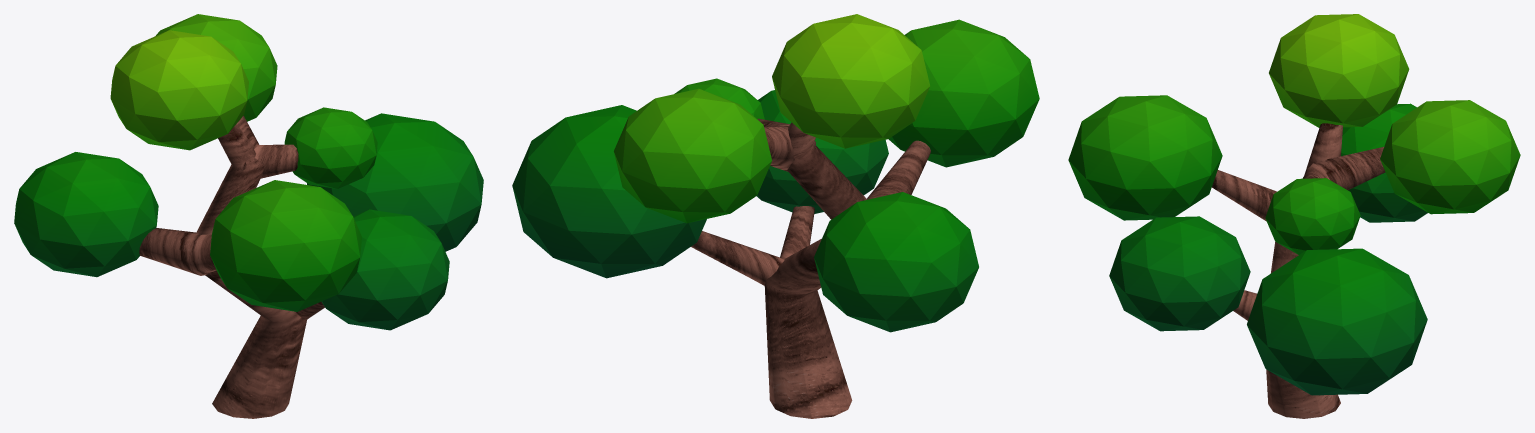
File: tree.glb
The picture shows the model from 3 angles, left to right: view 1: azimuth 30°, elevation 25°; view 2: azimuth 150°, elevation 25°; view 3: azimuth 270°, elevation 25°; orthographic projection. The views are drawn at different scales.
Parts seen in each view (by area): view 1: Leaves, Trunk; view 2: Leaves, Trunk; view 3: Leaves, Trunk.
Part boxes in pixels (bbox=[...]): Leaves: bbox=[14, 14, 483, 330]; Trunk: bbox=[139, 115, 324, 418]; Leaves: bbox=[512, 14, 1039, 332]; Trunk: bbox=[691, 118, 930, 418]; Leaves: bbox=[1068, 14, 1520, 395]; Trunk: bbox=[1212, 123, 1385, 418].
Bounding box in the file's own units: 4.83 × 4 × 4.58.
Materials: 2 (2 with a texture image).
